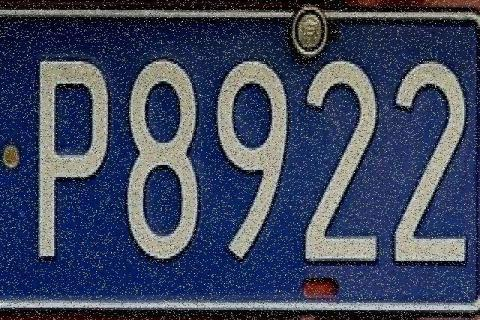LicensePlate: (0, 8, 480, 310)
